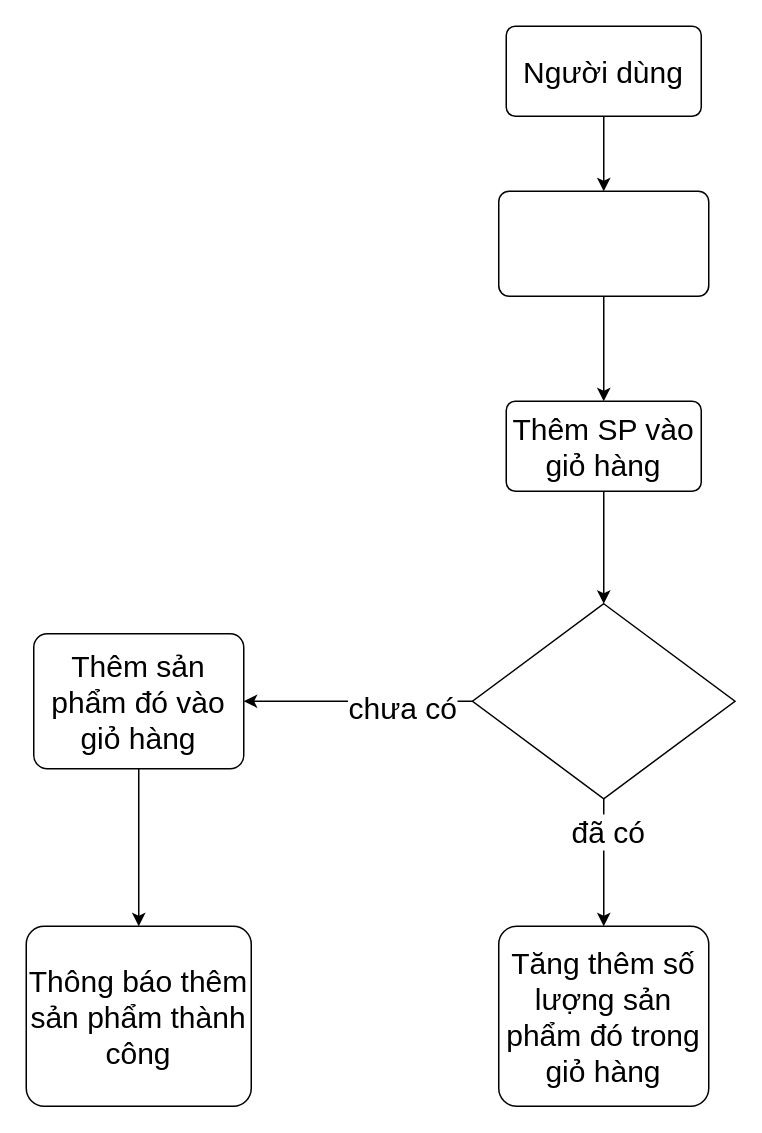
This 762x1133 diagram has some shape labels left out. Here are the shapes that lost their labels. From the top down, the centre of each, then its label:
At point 603,243: "Trang DS sản phẩm".
At point 603,700: "Sản phẩm có trong giỏ hàng".
